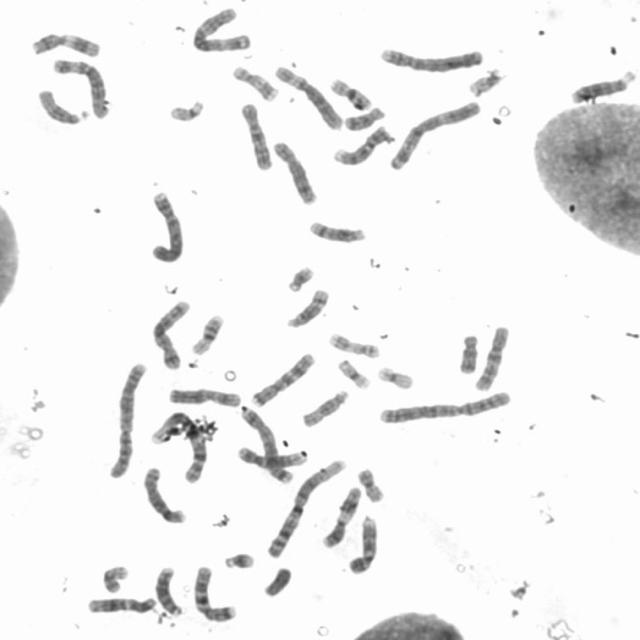A1: (264, 455, 349, 559), (144, 407, 210, 484)
A2: (373, 385, 514, 425), (104, 358, 149, 480)
A3: (384, 96, 484, 172), (188, 3, 254, 53)
B4: (376, 42, 486, 74), (144, 187, 187, 264)
B5: (236, 401, 294, 485), (148, 294, 194, 370)
C10: (471, 321, 513, 393), (236, 98, 275, 171)
C11: (318, 482, 364, 549), (27, 29, 103, 58)
C12: (232, 441, 308, 470), (83, 592, 159, 615)
C6: (270, 60, 345, 131), (49, 54, 112, 120)
C7: (247, 349, 317, 408), (190, 561, 240, 624)
C8: (269, 136, 319, 206), (140, 462, 188, 526)
C9: (330, 122, 394, 166), (345, 511, 380, 575)
D13: (566, 65, 638, 105), (150, 562, 187, 616)
D14: (284, 284, 332, 330), (304, 216, 369, 244)
D15: (34, 84, 91, 126), (298, 385, 351, 429)
E16: (187, 309, 226, 357), (326, 74, 374, 112)
E17: (228, 61, 282, 102), (324, 328, 384, 360)
E18: (341, 102, 387, 132), (455, 329, 481, 375)
F19: (334, 355, 373, 390), (374, 362, 416, 390)
F20: (353, 463, 388, 504), (99, 561, 131, 594)
G21: (283, 262, 316, 294), (220, 548, 257, 571)
G22: (465, 64, 506, 98), (165, 95, 206, 123)
X: (164, 384, 243, 408)
Y: (260, 563, 294, 598)
